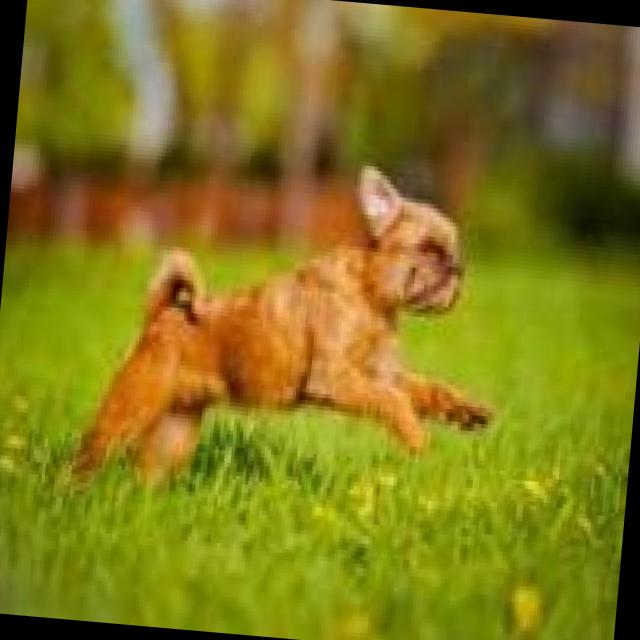Perro: (53, 132, 516, 530)
